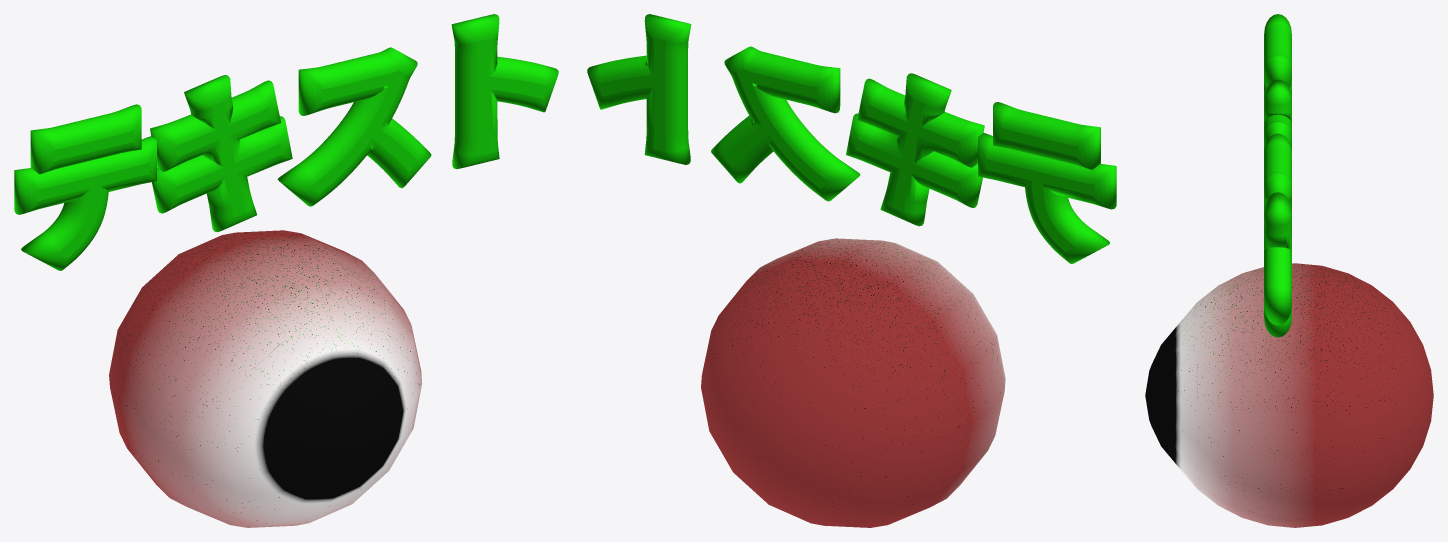
3 views of the same model, side by side, from view 1: azimuth 30°, elevation 25°; view 2: azimuth 150°, elevation 25°; view 3: azimuth 270°, elevation 25° (orthographic). The views are drawn at different scales.
Visible parts, largest first — view 1: 球; view 2: 球; view 3: 球.
Boxes of the visible parts, x1,y1,x2,y2 form: 球: (14, 14, 558, 527); 球: (587, 14, 1116, 527); 球: (1145, 14, 1433, 527).
Bounding box in the file's own units: 3.98 × 3.21 × 2.08.
3 materials, 1 textured.
